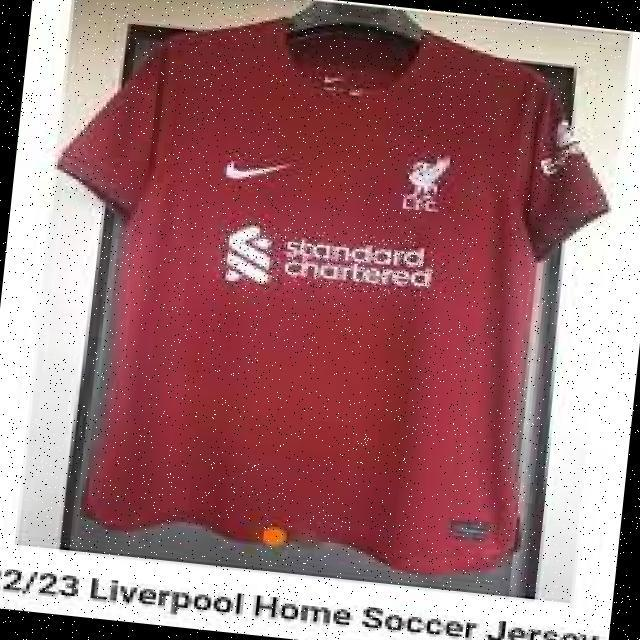Nike: (224, 152, 293, 183)
Standard Chartered: (219, 220, 435, 300)
